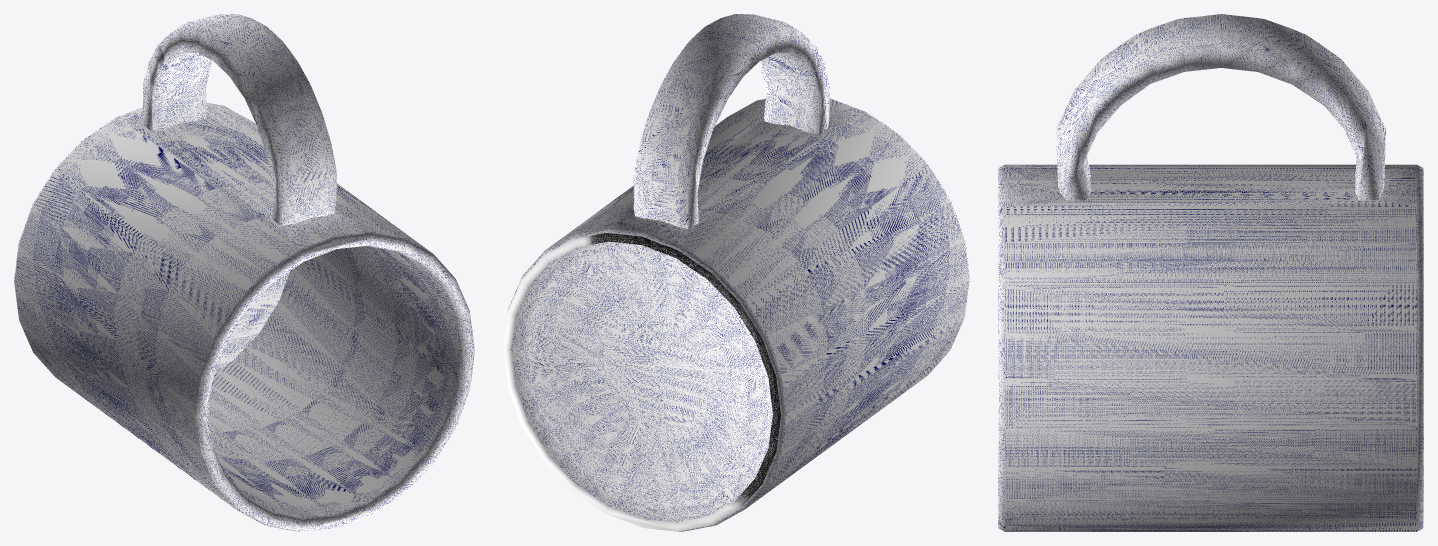
The model's file is model_align.obj.
The picture shows the model from 3 angles, left to right: view 1: azimuth 30°, elevation 25°; view 2: azimuth 150°, elevation 25°; view 3: azimuth 270°, elevation 25°; orthographic projection. The views are drawn at different scales.
Visible parts, largest first — view 1: mesh1_mesh1-geometry; view 2: mesh1_mesh1-geometry; view 3: mesh1_mesh1-geometry.
Boxes of the visible parts, x1,y1,x2,y2 form: mesh1_mesh1-geometry: (14,14,474,531); mesh1_mesh1-geometry: (503,14,969,531); mesh1_mesh1-geometry: (998,14,1423,531).
Size of the model in its own units: 0.0792 by 0.1167 by 0.0914.
